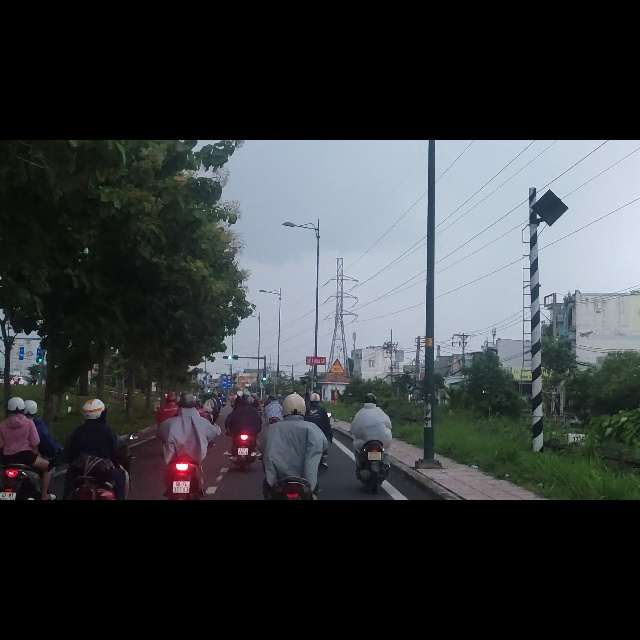bien_cam: (329, 388, 346, 415)
